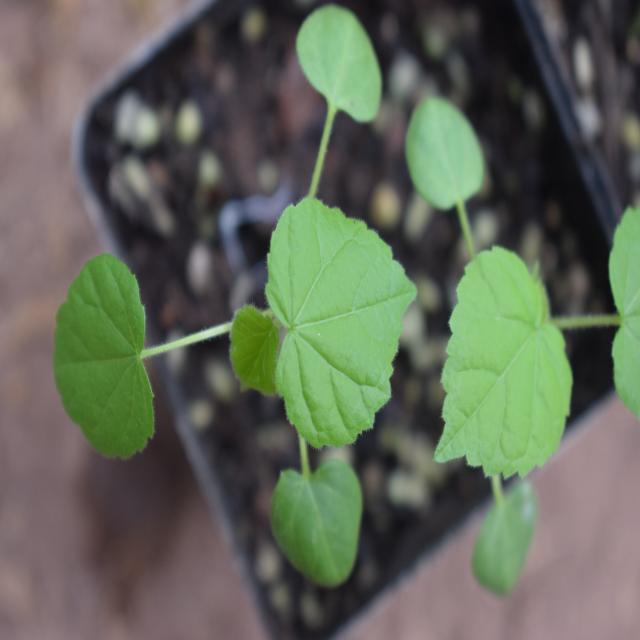abutilon theophrasti: (43, 89, 477, 553)
